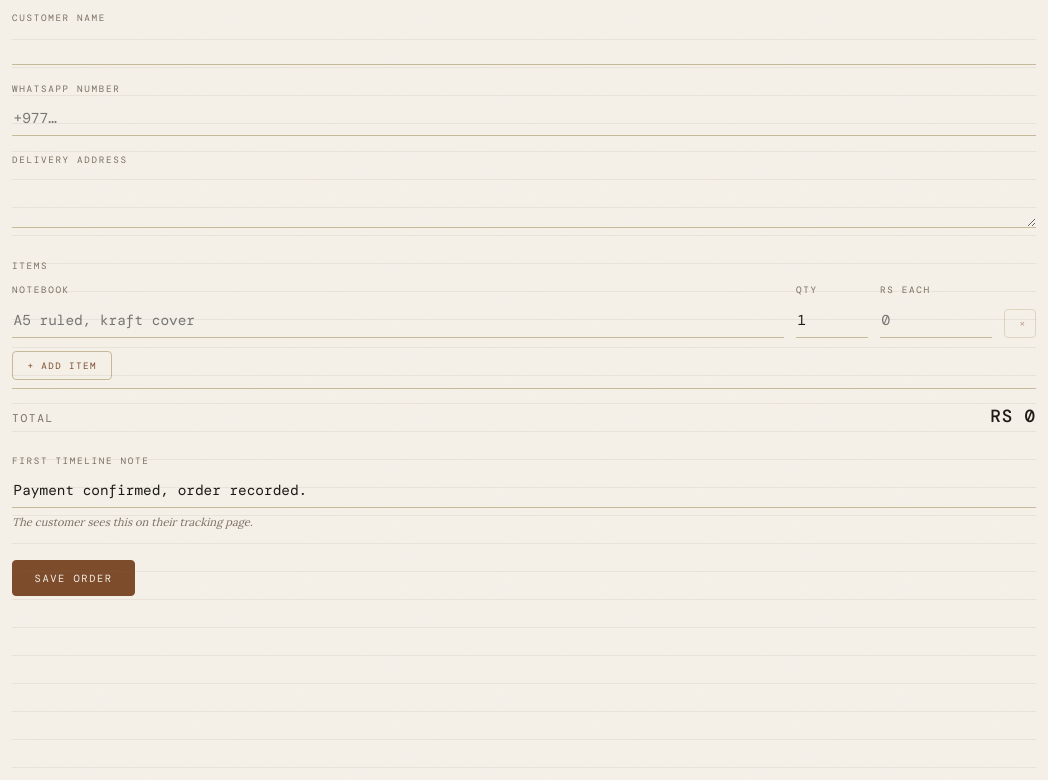
NewOrderForm › adds a row on request
Click the button "+ Add item": [62, 366] box [12,351,112,380]
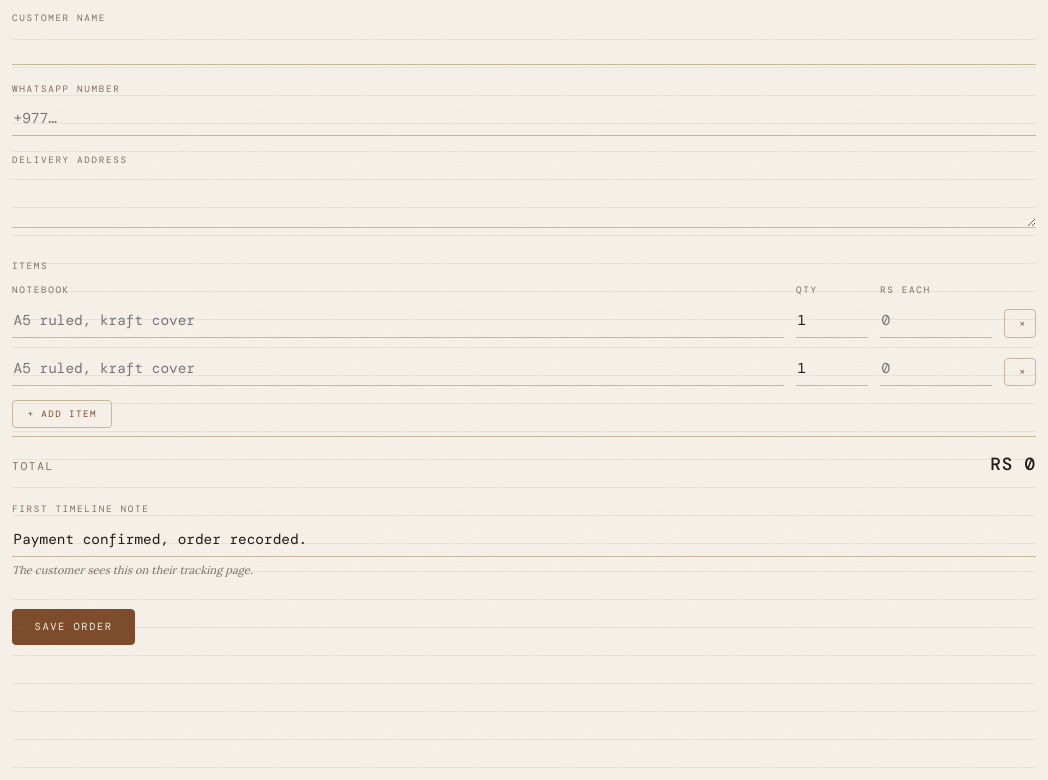
expect the number of fields with placeholder "A5 ruled, kraft cover" is 2: met, box [12,303,784,338]; [12,351,784,386]
